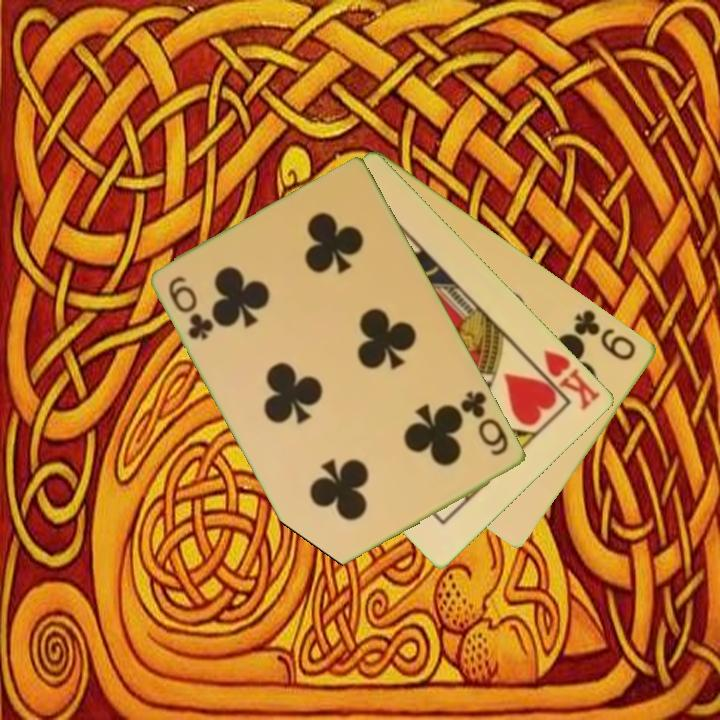6c: (457, 387, 512, 459), (165, 272, 217, 343)
9c: (571, 305, 640, 364)
Kh: (526, 346, 604, 414)
